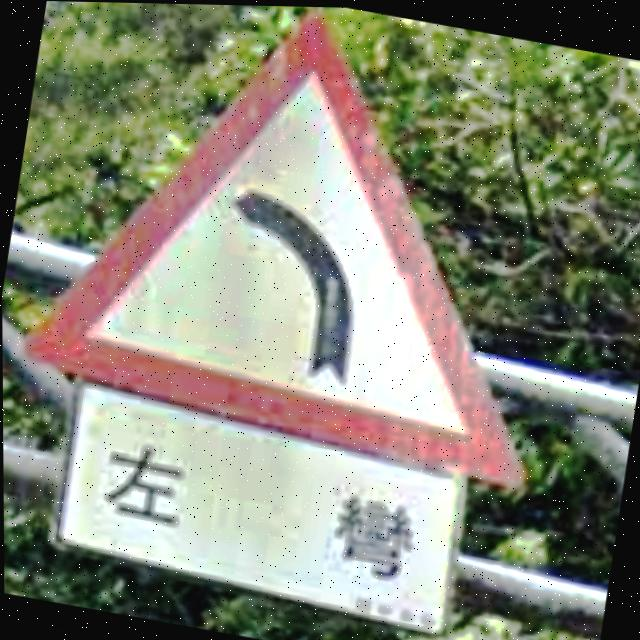leftbend: (24, 14, 518, 485)
